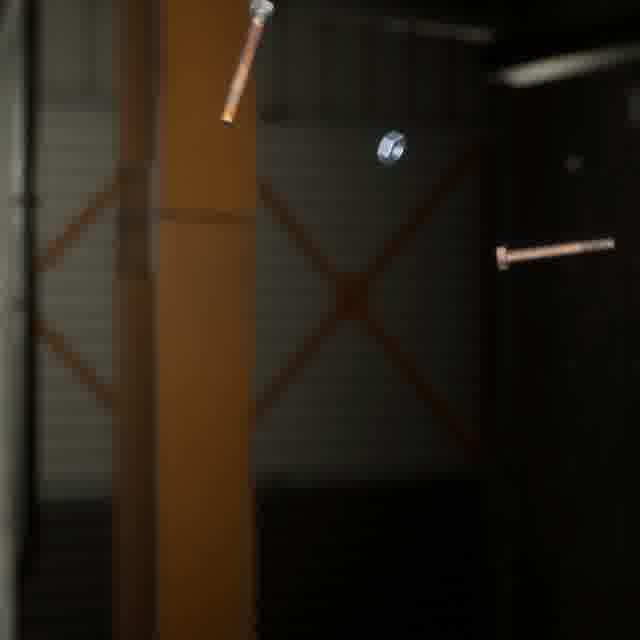bolt: (214, 0, 278, 131), (491, 232, 619, 274)
nut: (372, 126, 411, 170)
